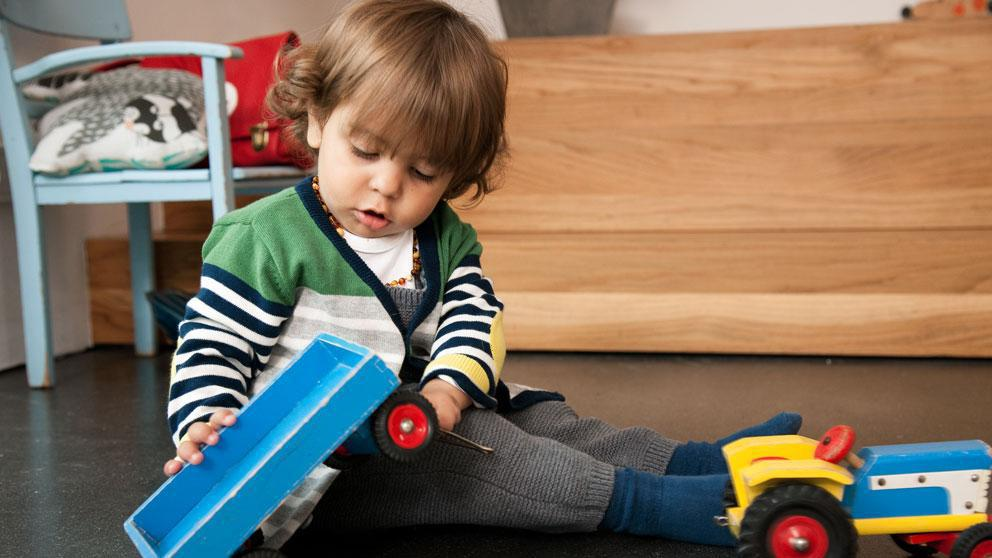child: (146, 1, 826, 552)
